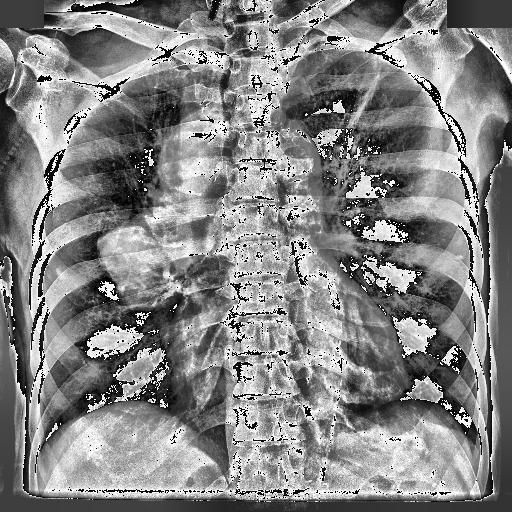0- Aortic enlargement: (264, 128, 323, 190)
13- Pulmonary fibrosis: (117, 240, 218, 378), (335, 66, 385, 153), (344, 66, 388, 134)
2- Calcification: (294, 130, 310, 144)
3- Cardiomegaly: (170, 344, 416, 420), (168, 334, 410, 400)
8- Nodule-Mass: (94, 101, 228, 307), (96, 105, 232, 307), (96, 114, 227, 308)
9- Other lesion: (96, 105, 232, 307), (96, 114, 227, 308), (2, 252, 24, 450), (55, 266, 68, 282)
